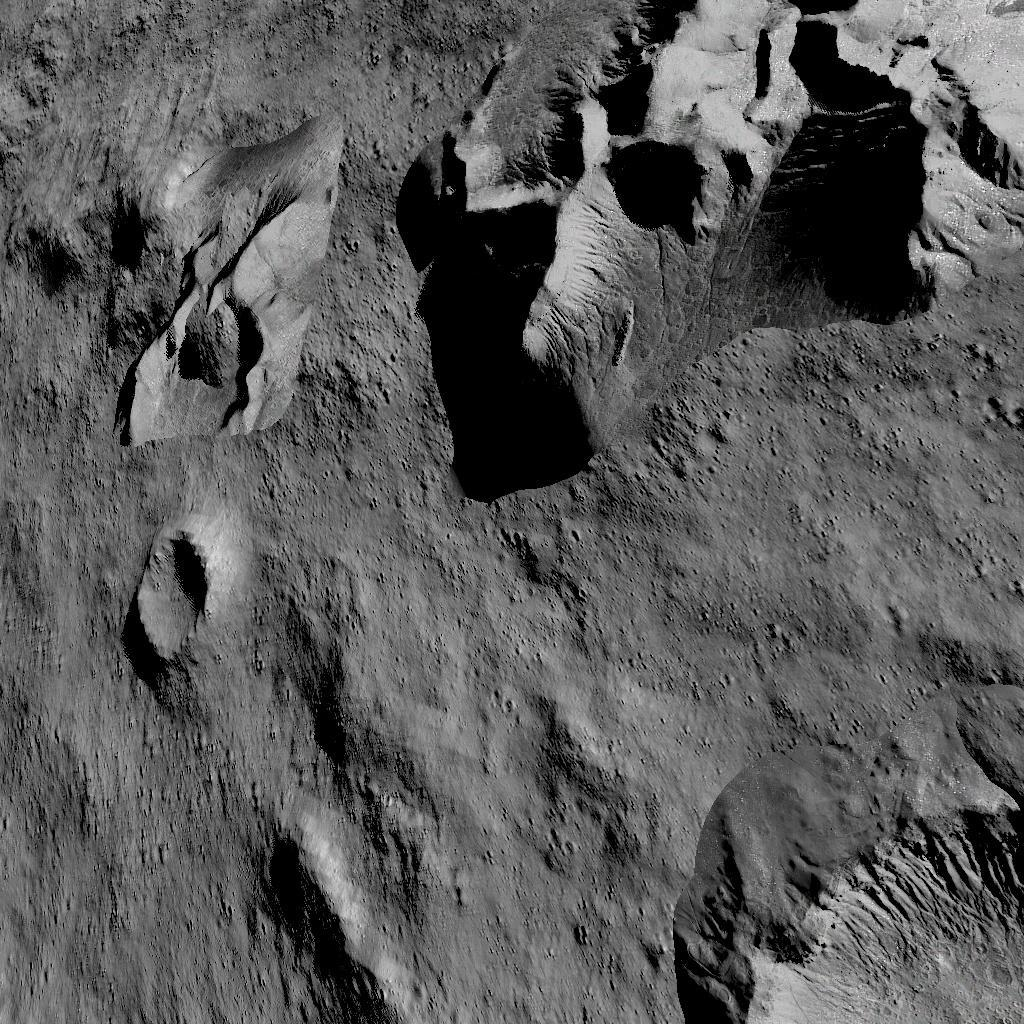Boulders: (401, 0, 1024, 503), (92, 108, 352, 448)
Crater: (696, 762, 1024, 1024), (130, 510, 226, 660)
Plan surface: (427, 516, 1024, 752), (0, 668, 272, 1024), (419, 762, 687, 1024), (0, 0, 377, 96), (1, 456, 122, 658)
